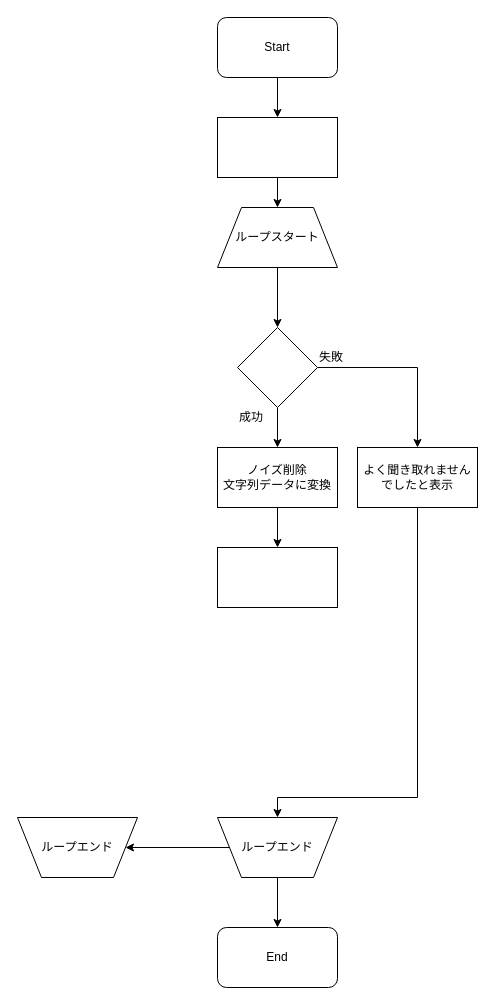
This 495x1005 diagram has some shape labels left out. The shapes that lost their labels are listed below. From the top down, each one's centre as x and y in pixels, then its label:
pixel 277 147: Library import
pixel 277 367: 音声認識
pixel 277 577: 文字列の形態素分析
